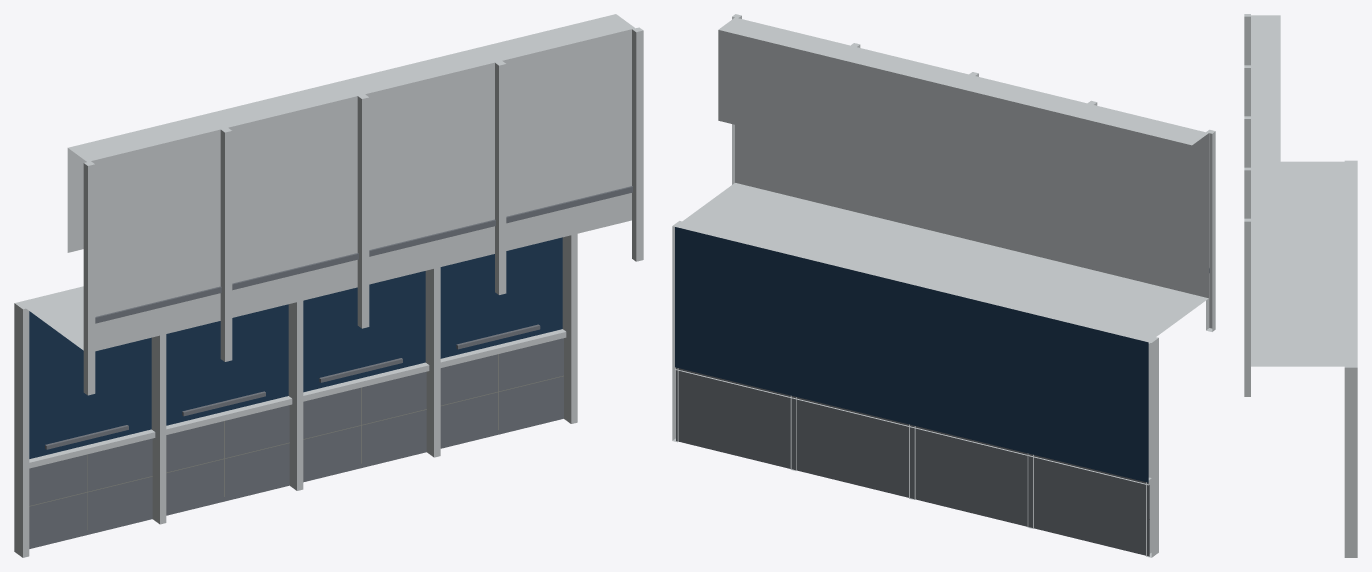
Rendered from top-w1_close.fbx.
3 views of the same model, side by side, from view 1: azimuth 30°, elevation 25°; view 2: azimuth 150°, elevation 25°; view 3: azimuth 270°, elevation 25° (orthographic). The views are drawn at different scales.
Visible parts, largest first — view 1: a2010/0/top-w1_close; view 2: a2010/0/top-w1_close; view 3: a2010/0/top-w1_close.
Part boxes in pixels (<box>): a2010/0/top-w1_close: <box>14,14,643,557</box>; a2010/0/top-w1_close: <box>672,14,1215,557</box>; a2010/0/top-w1_close: <box>1244,14,1357,557</box>.
Bounding box in the file's own units: 6.08 × 4.6 × 1.4.
